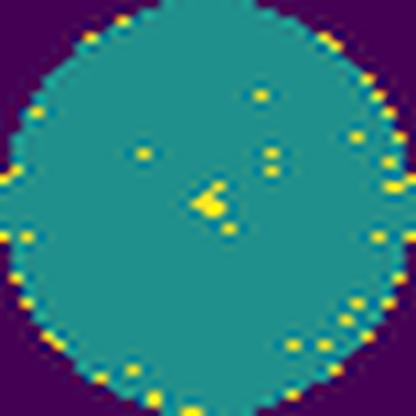Center: (191, 176, 228, 218)
